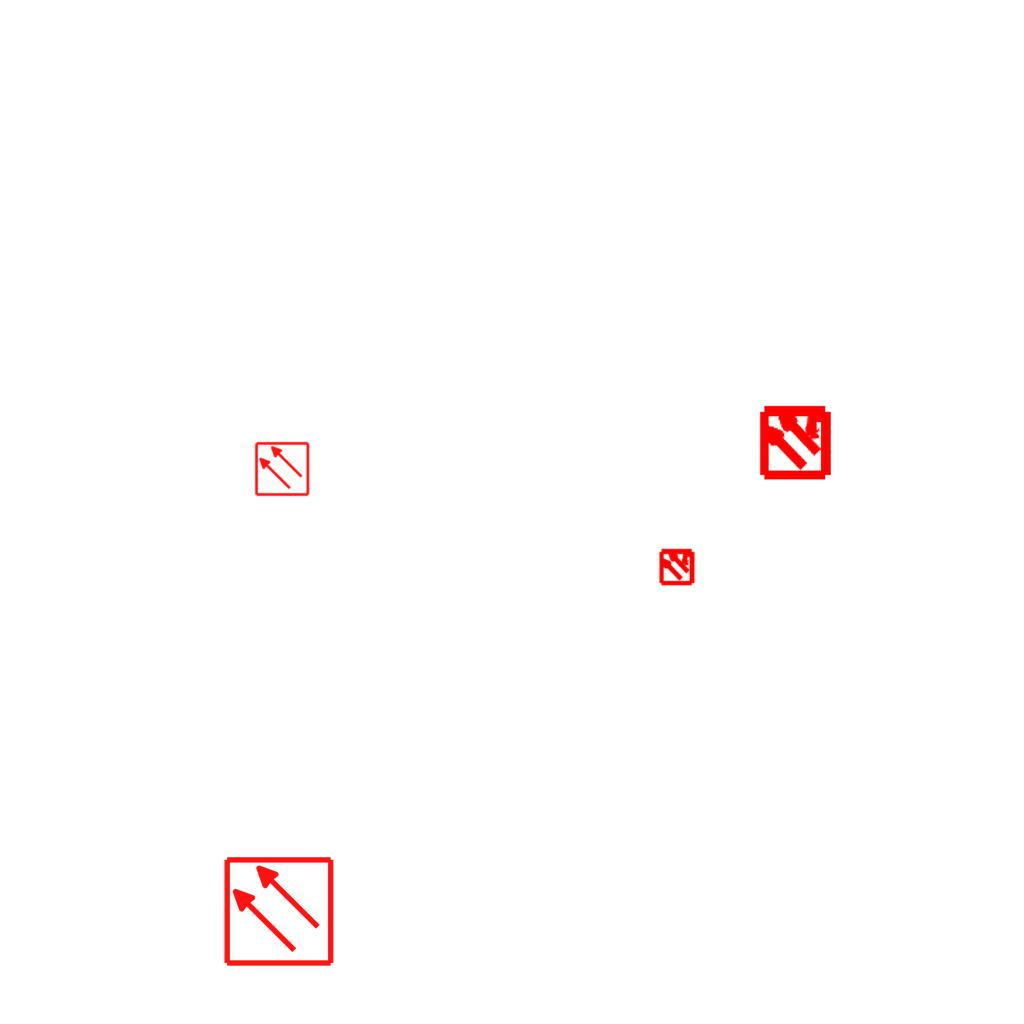OT_Multisensormelder_(Kombination_RMO_WMD): (739, 384, 852, 497), (649, 538, 705, 594)
RMO_Rauchmelder_optischer: (222, 855, 335, 968), (254, 441, 310, 497)
